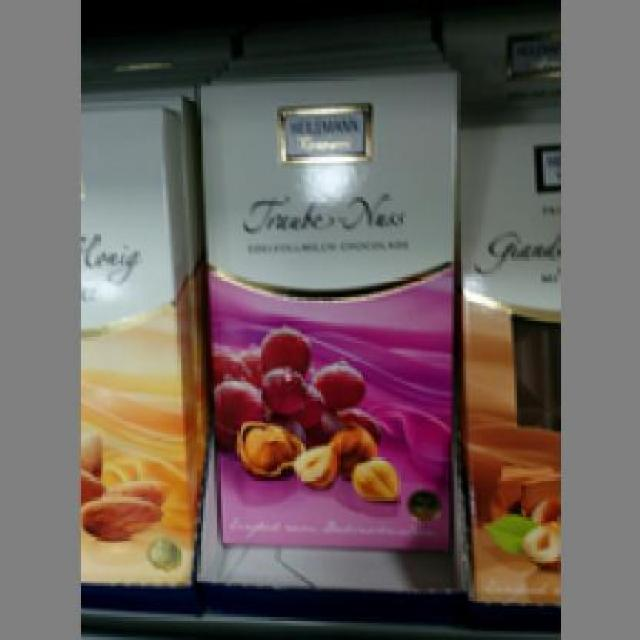Chocolate bar: (194, 68, 460, 544), (76, 90, 192, 586), (456, 123, 554, 600)
